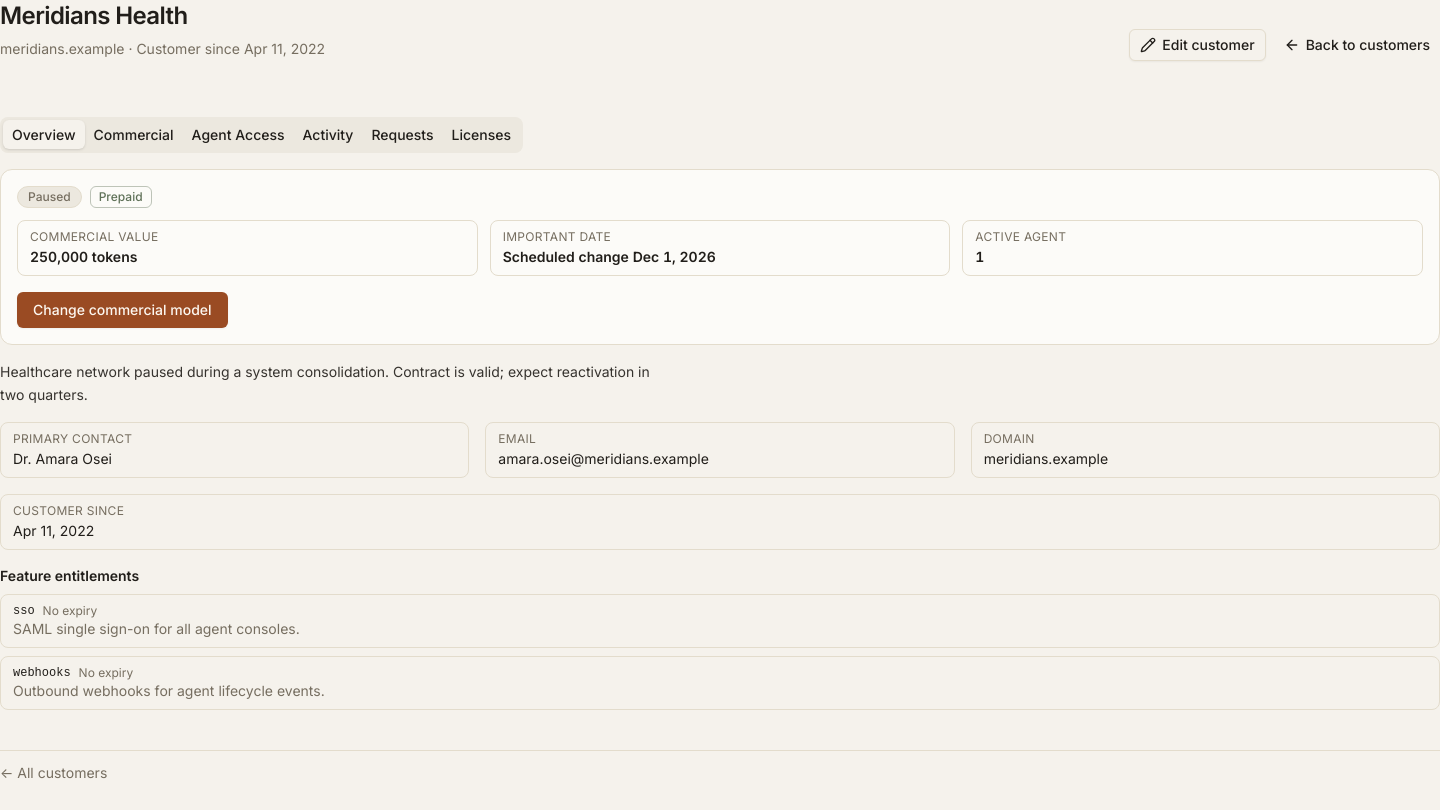
Test: CustomerProfilePage › opens the drawer in review mode from the scheduled change strip
The image size is (1440, 810).
Click the tab with test id "tab-commercial". click: [134, 135]
box: [84, 120, 182, 149]
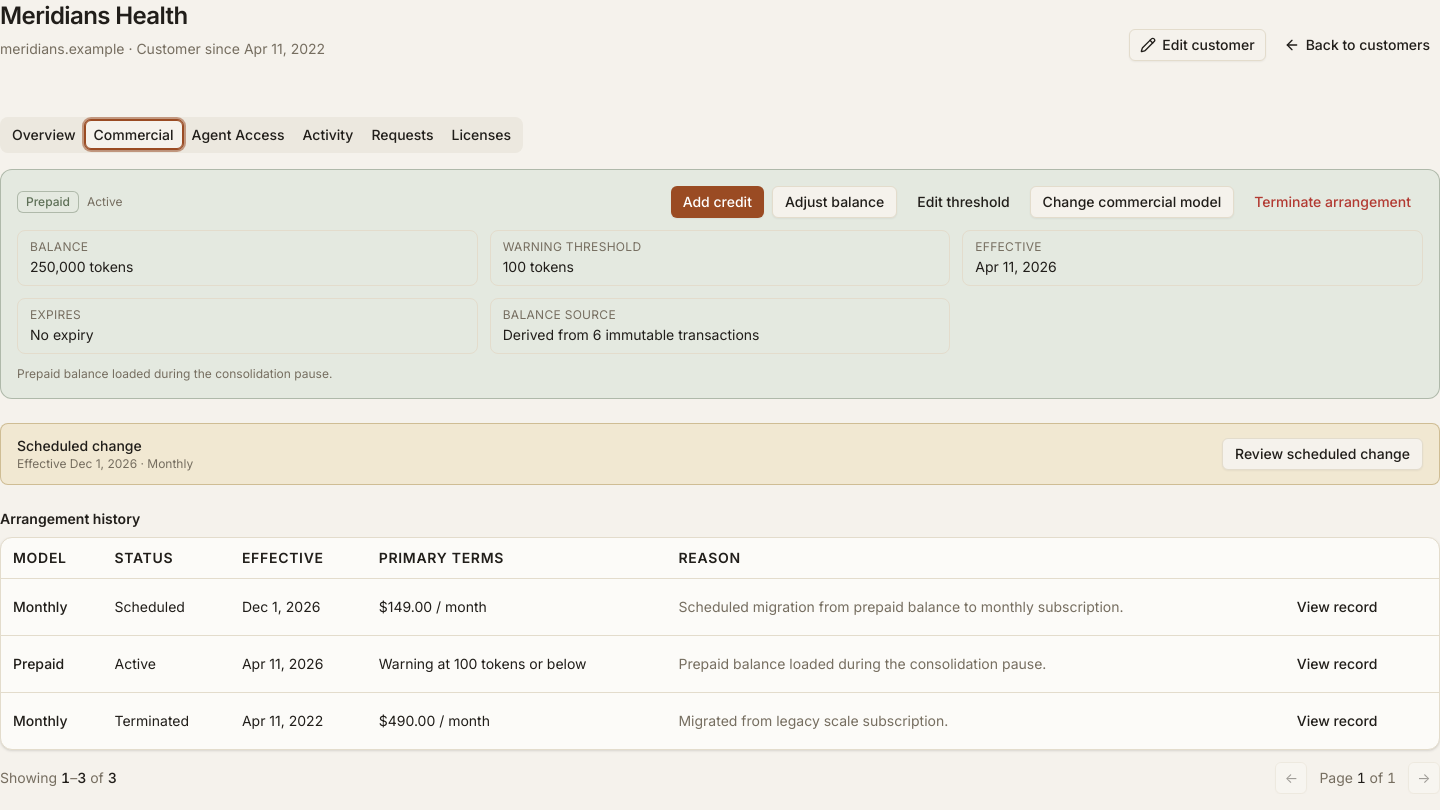
Click the button with test id "review-scheduled-change". click: [1322, 454]
box: [1222, 438, 1423, 470]
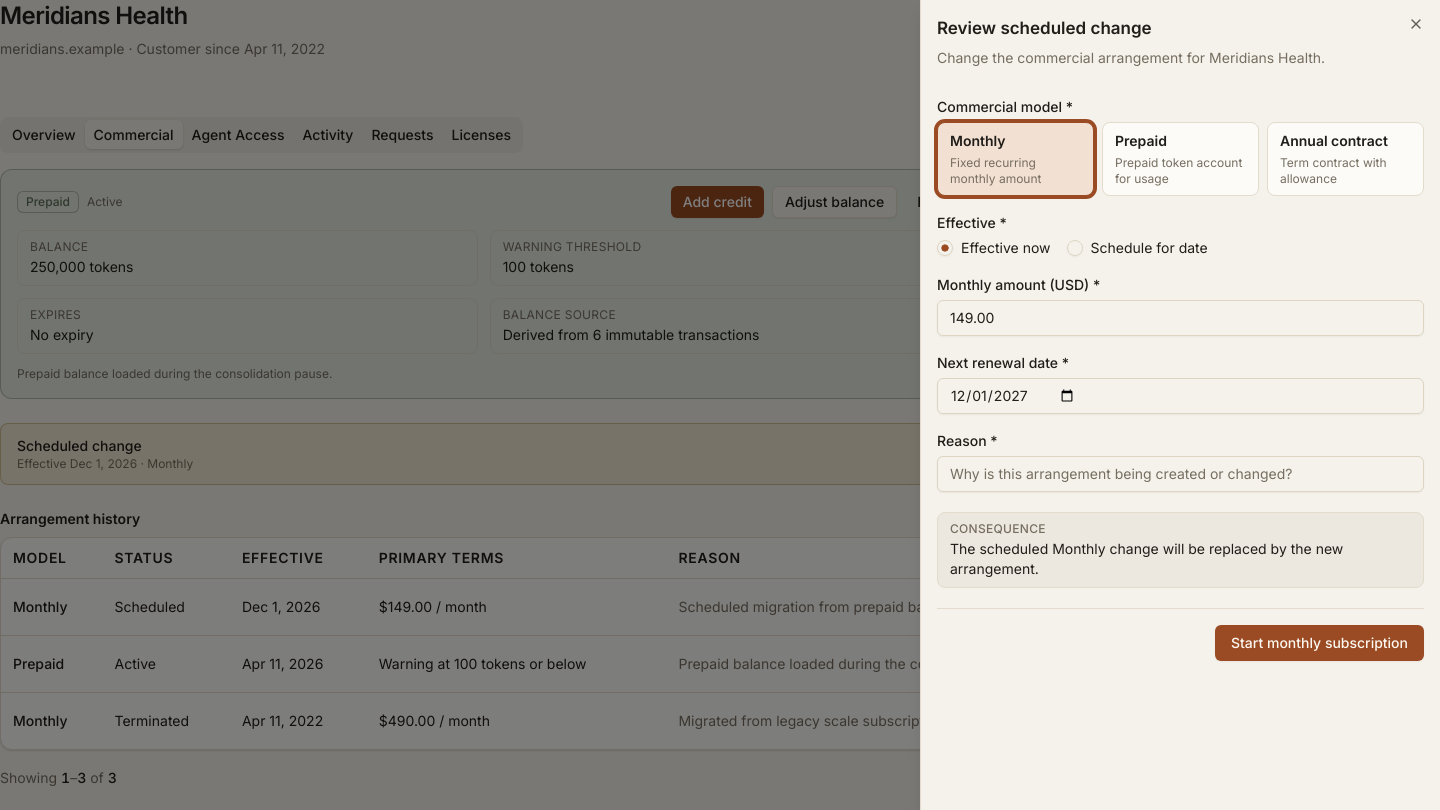
Check: the dialog with test id "commercial-sheet" is shown, box [920, 0, 1439, 809]
Check: the heading "Review scheduled change" is shown, box [937, 18, 1152, 38]
Check: the number field with test id "monthly-amount" holds "149", box [937, 300, 1424, 336]
